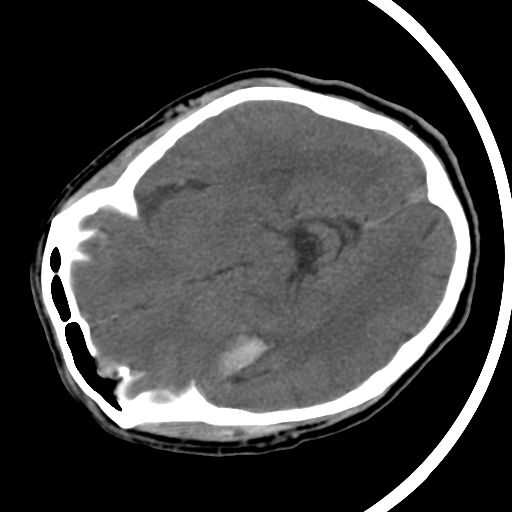a: (190, 318, 290, 395)
